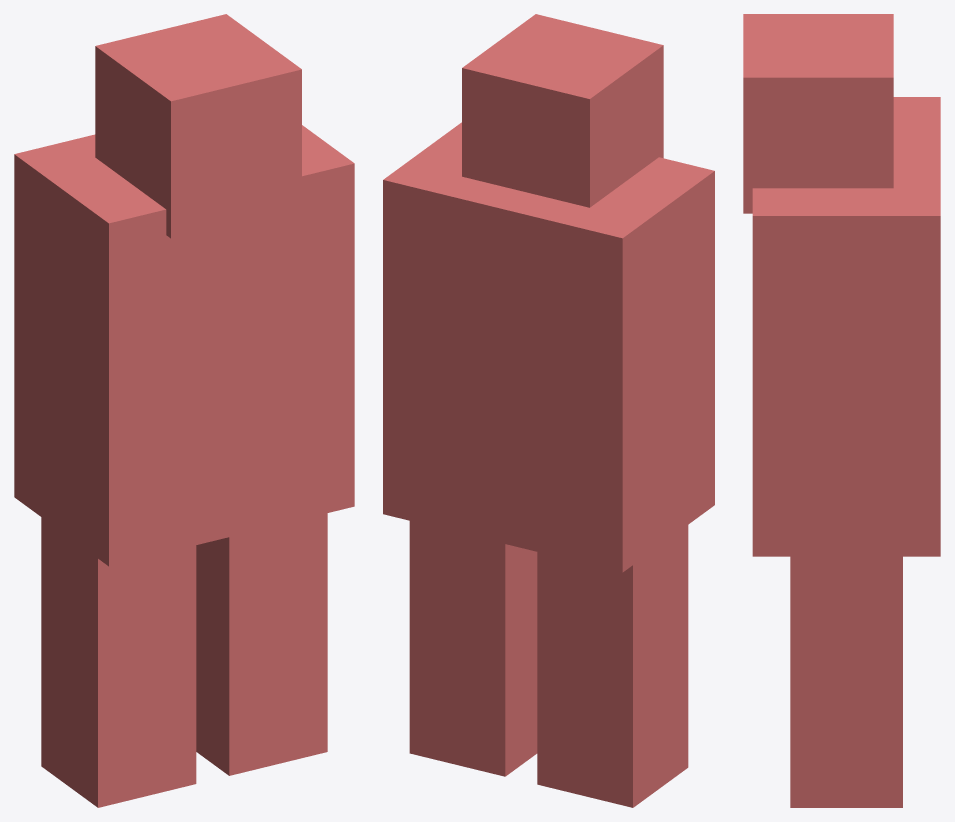
File: heavy_mech.gltf
The picture shows the model from 3 angles, left to right: view 1: azimuth 30°, elevation 25°; view 2: azimuth 150°, elevation 25°; view 3: azimuth 270°, elevation 25°; orthographic projection. The views are drawn at different scales.
Visible parts, largest first — view 1: Heavy Mech; view 2: Heavy Mech; view 3: Heavy Mech.
Boxes of the visible parts, x1,y1,x2,y2 form: Heavy Mech: (14,14,354,807); Heavy Mech: (383,14,714,807); Heavy Mech: (743,14,940,807).
Bounding box in the file's own units: 3.9 × 10.79 × 2.73.
